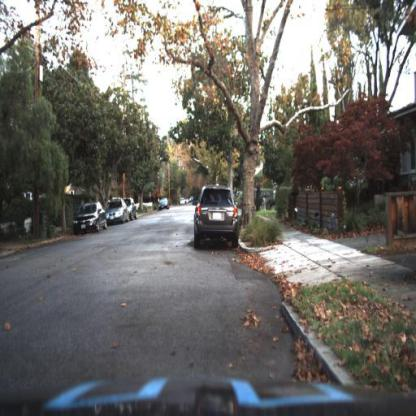car: (191, 182, 247, 248), (73, 195, 108, 239), (105, 195, 129, 228), (127, 195, 139, 222), (159, 196, 171, 211)
